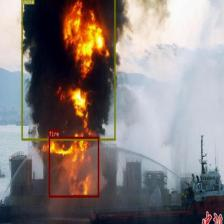fire: (48, 136, 99, 197)
smoke: (21, 0, 115, 140)
